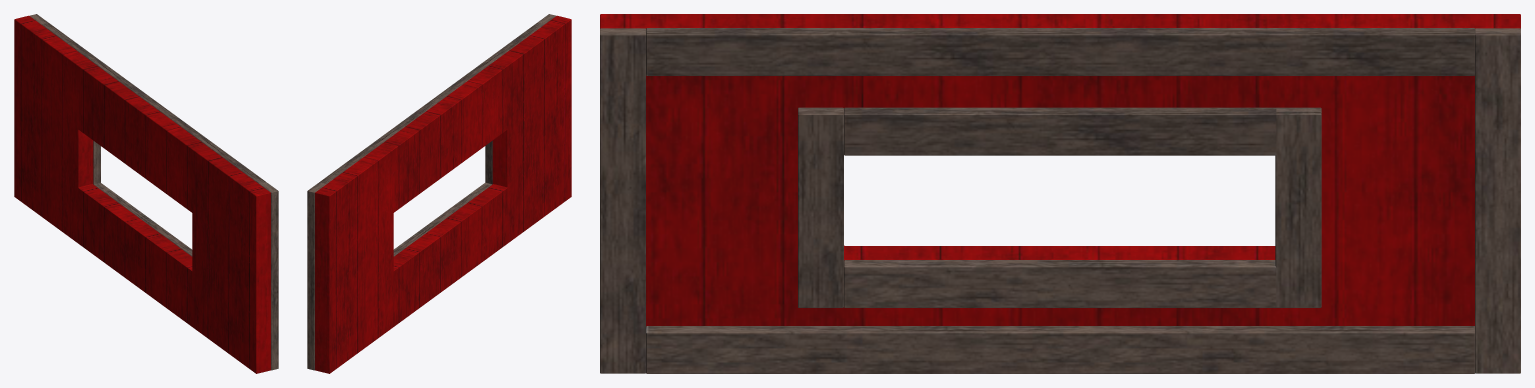
The model's file is StableWall_SideWindow2_LP.glb.
3 renders of one model, left to right at view 1: azimuth 30°, elevation 25°; view 2: azimuth 150°, elevation 25°; view 3: azimuth 270°, elevation 25°, orthographic. The views are drawn at different scales.
Visible parts, largest first — view 1: StableWall_SideWindow2_LP; view 2: StableWall_SideWindow2_LP; view 3: StableWall_SideWindow2_LP.
Boxes of the visible parts, x1,y1,x2,y2 form: StableWall_SideWindow2_LP: (14, 14, 278, 373); StableWall_SideWindow2_LP: (307, 14, 571, 373); StableWall_SideWindow2_LP: (600, 14, 1520, 373).
Bounding box in the file's own units: 0.2327 × 1.76 × 4.33.
Materials: 1 (1 with a texture image).
